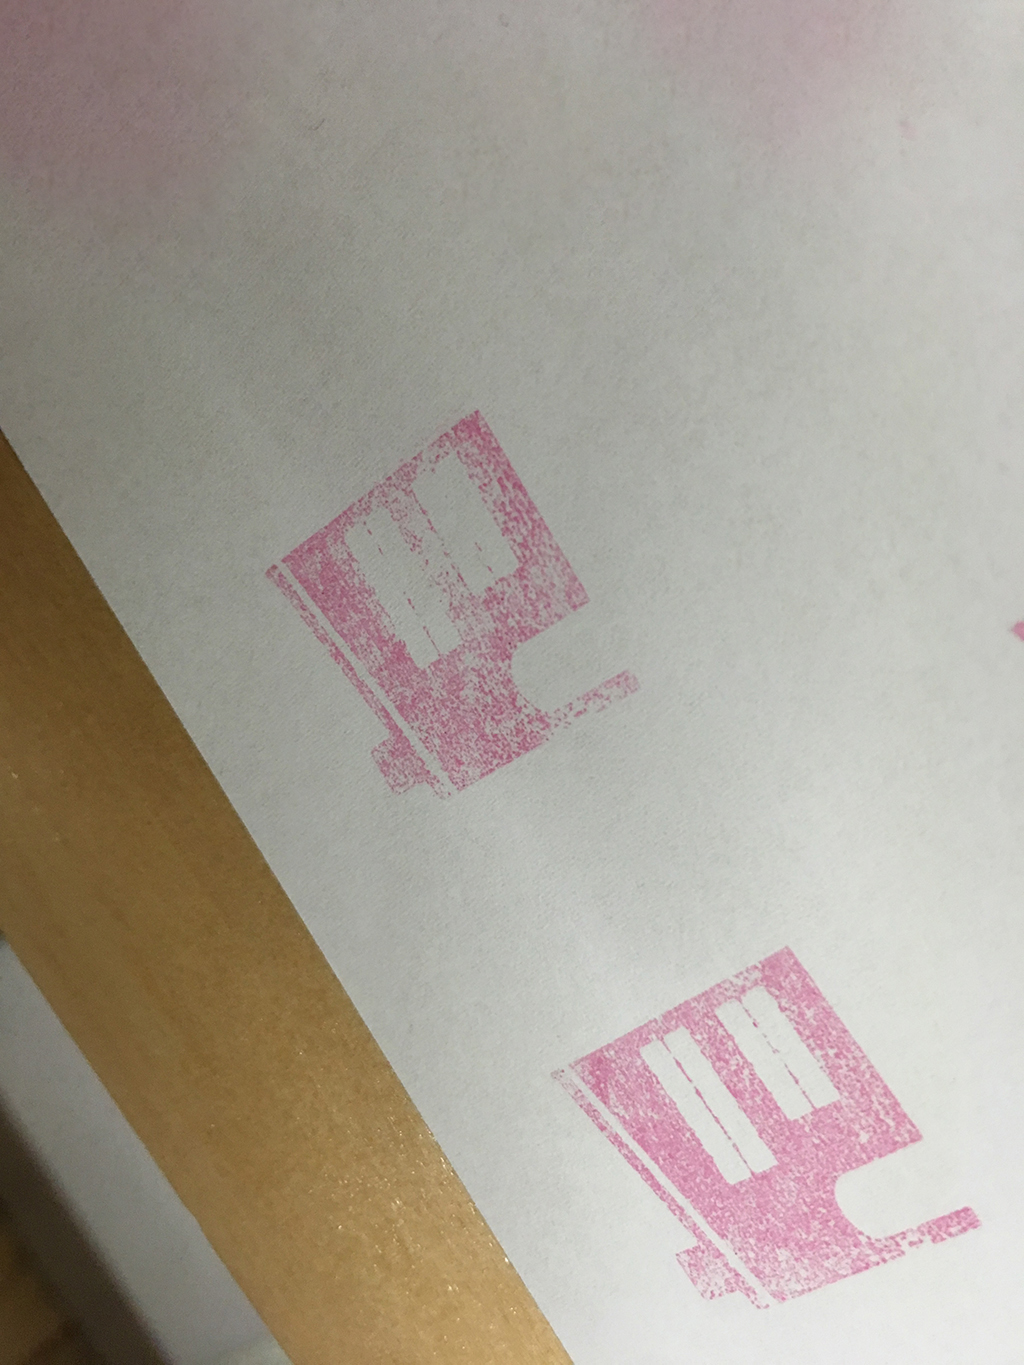house: (547, 915, 995, 1313), (250, 386, 660, 819)
